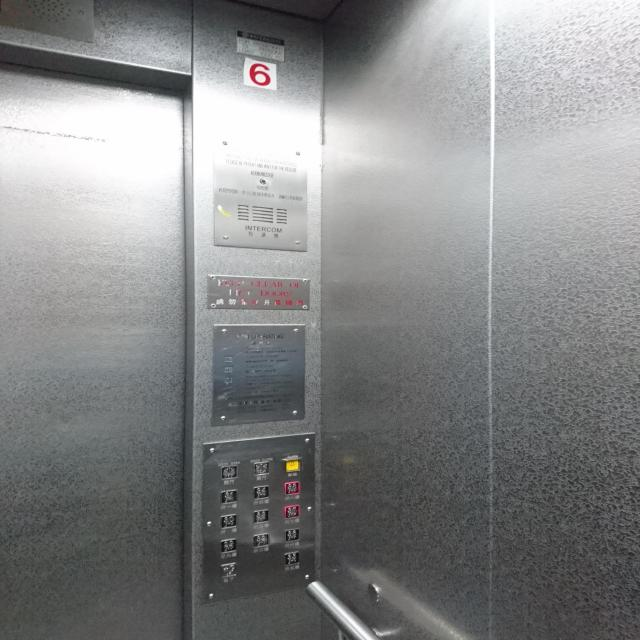29: (218, 538, 238, 554)
30: (219, 513, 238, 530)
31: (219, 488, 238, 505)
32: (252, 532, 270, 548)
33: (252, 508, 270, 524)
34: (252, 484, 270, 500)
35: (283, 550, 299, 567)
36: (283, 527, 300, 543)
37: (283, 504, 301, 520)
38: (282, 481, 300, 496)
alarm: (284, 457, 300, 473)
close: (252, 461, 270, 476)
open: (220, 464, 238, 480)
sG: (220, 561, 238, 579)
